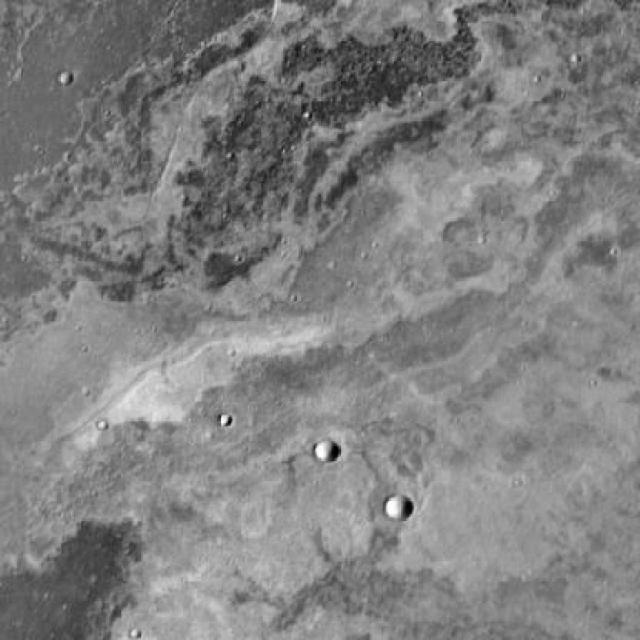crater: (364, 488, 394, 518), (297, 433, 320, 455)
